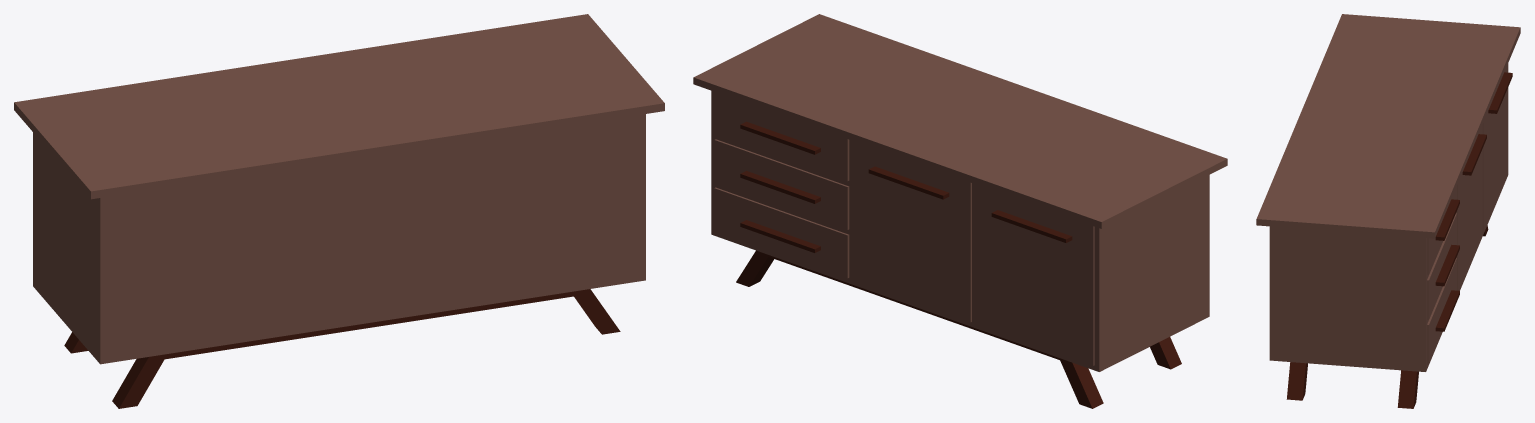
Rendered from credenza.obj.
3 renders of one model, left to right at view 1: azimuth 30°, elevation 25°; view 2: azimuth 150°, elevation 25°; view 3: azimuth 270°, elevation 25°, orthographic. The views are drawn at different scales.
Parts seen in each view (by area): view 1: Box001, Box007, Box009, Box008; view 2: Box001, Box013, Box014, Box011, Box012, Box010, Box005, Box006, Box018, Box019, Box016, Box002 (+3 smaller); view 3: Box001, Box014, Box013, Box011, Box012, Box002, Box008, Box015, Box016, Box017, Box019, Box018 (+1 smaller).
Part boxes in pixels (bbox=[...]): Box001: bbox=[14, 14, 664, 364]; Box007: bbox=[165, 292, 574, 359]; Box009: bbox=[112, 354, 167, 408]; Box008: bbox=[572, 289, 620, 334]; Box001: bbox=[693, 14, 1227, 371]; Box013: bbox=[852, 140, 971, 322]; Box014: bbox=[975, 184, 1094, 365]; Box011: bbox=[714, 187, 849, 278]; Box012: bbox=[714, 139, 849, 229]; Box010: bbox=[714, 92, 849, 181]; Box005: bbox=[1059, 358, 1103, 408]; Box006: bbox=[768, 255, 1059, 359]; Box018: bbox=[868, 166, 949, 199]; Box019: bbox=[991, 210, 1072, 242]; Box016: bbox=[740, 171, 820, 203]; Box002: bbox=[736, 250, 774, 286]; Box001: bbox=[1256, 14, 1520, 371]; Box014: bbox=[1482, 63, 1508, 233]; Box013: bbox=[1456, 125, 1482, 290]; Box011: bbox=[1427, 258, 1456, 364]; Box012: bbox=[1427, 213, 1456, 319]; Box002: bbox=[1397, 370, 1418, 408]; Box008: bbox=[1286, 362, 1307, 400]; Box015: bbox=[1435, 199, 1459, 240]; Box016: bbox=[1435, 244, 1459, 286]; Box017: bbox=[1435, 290, 1459, 331]; Box019: bbox=[1488, 72, 1512, 113]; Box018: bbox=[1462, 134, 1486, 175].
Size of the model in its own units: 924089 by 375872 by 472128.
